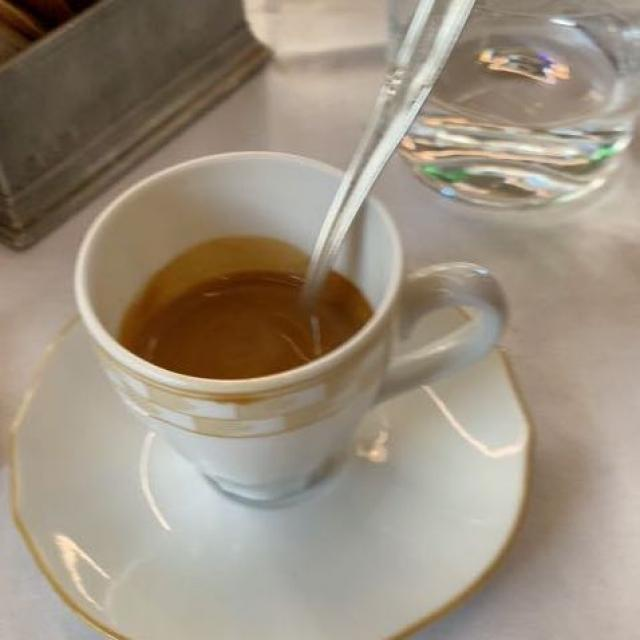coffee: (121, 265, 365, 375)
